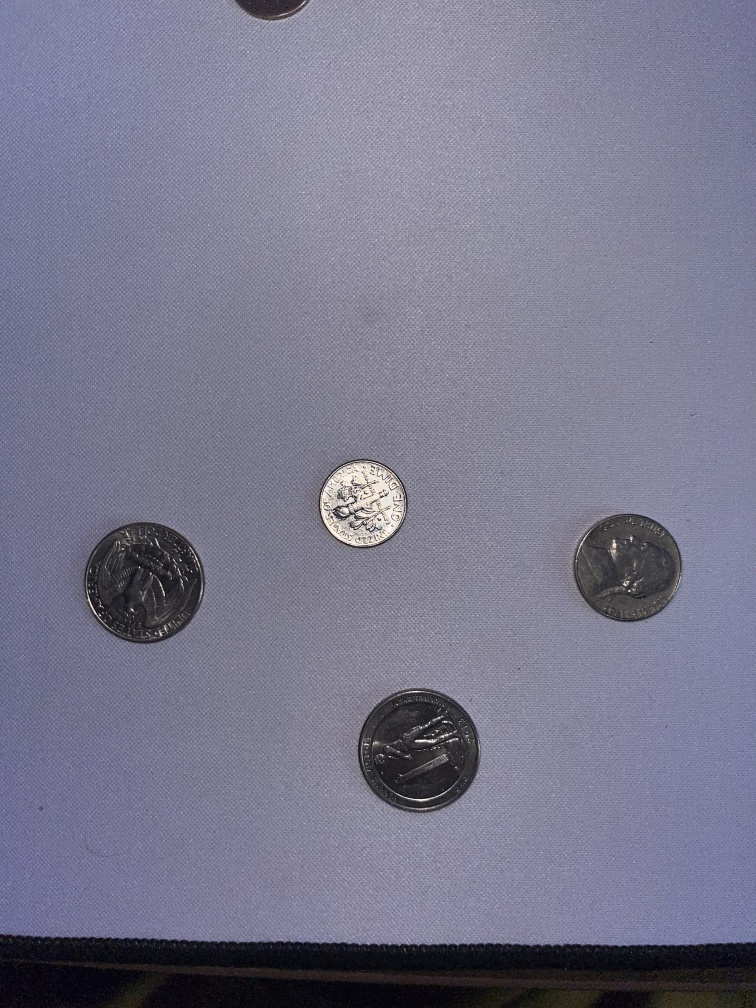dime: (312, 453, 414, 552)
nickel: (565, 509, 687, 623)
quarter: (347, 686, 485, 821), (80, 521, 209, 652)
